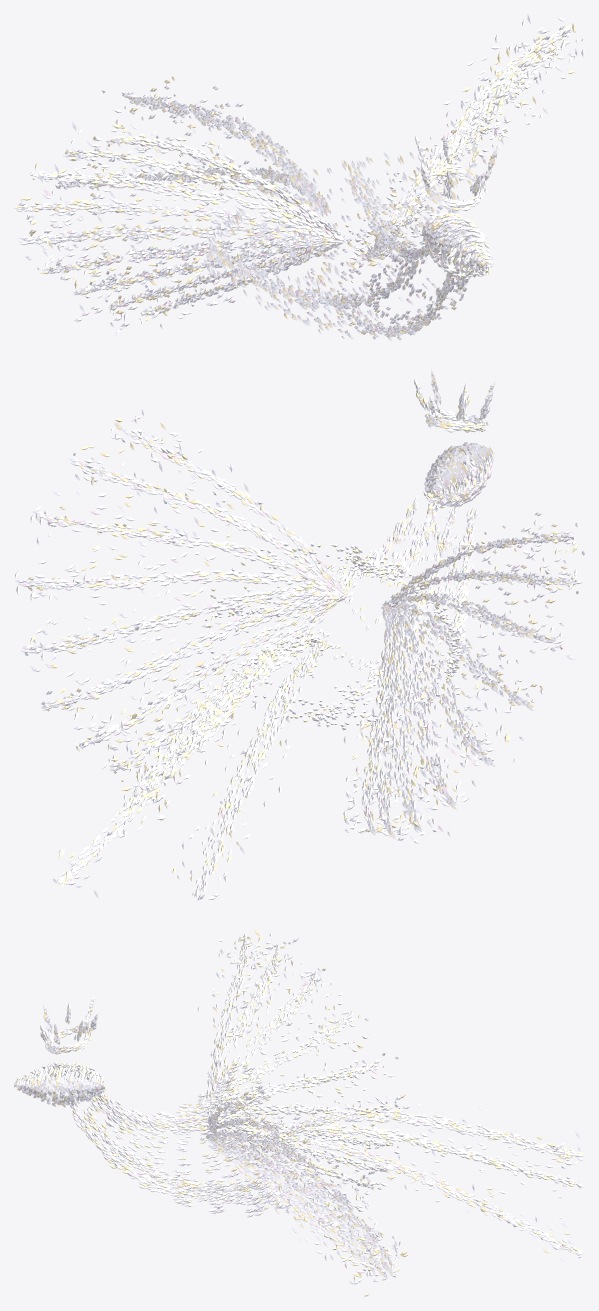
File: boss_mure_preview.glb
3 renders of one model, top to bottom at view 1: azimuth 30°, elevation 25°; view 2: azimuth 150°, elevation 25°; view 3: azimuth 270°, elevation 25°, orthographic. The views are drawn at different scales.
Parts seen in each view (by area): view 1: boss_mure_preview; view 2: boss_mure_preview; view 3: boss_mure_preview.
Part boxes in pixels (<box>): boss_mure_preview: <box>14,14,584,340</box>; boss_mure_preview: <box>14,370,584,900</box>; boss_mure_preview: <box>14,929,584,1296</box>.
Size of the model in its own units: 218 by 119 by 258.
